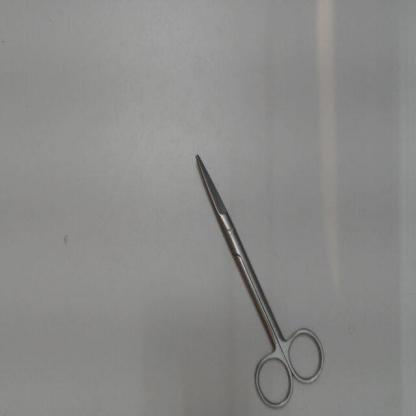Curved Mayo Scissors: (191, 146, 330, 414)
